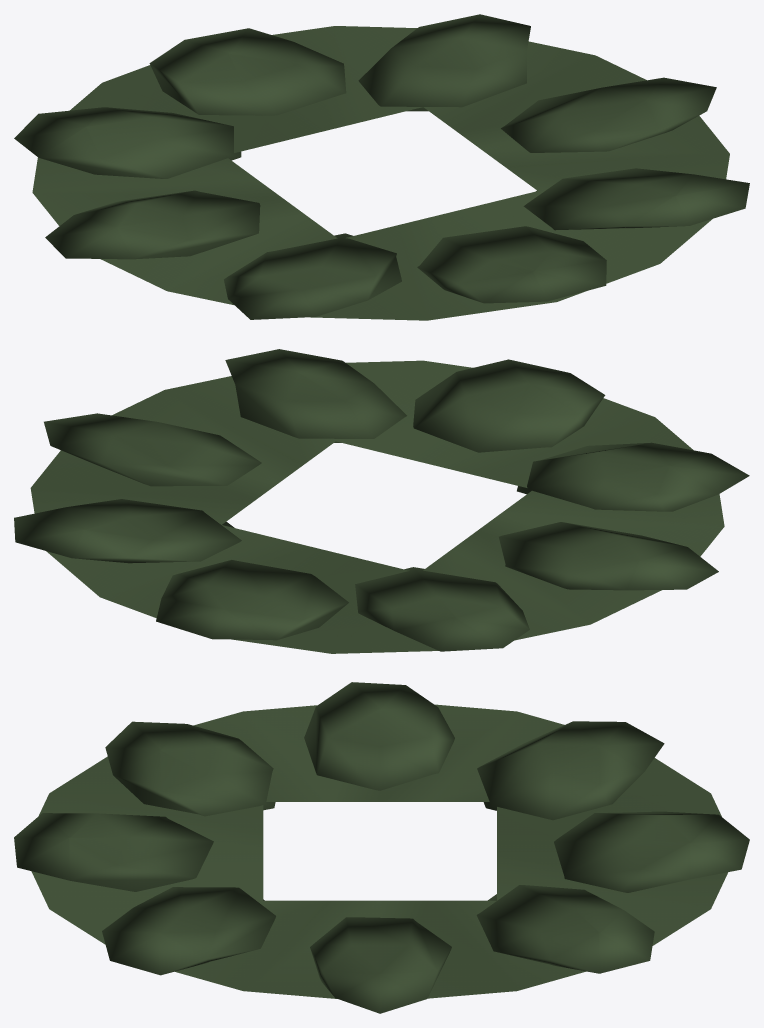
The model's file is horizon-ring.mobile.glb.
3 views of the same model, one above another, from view 1: azimuth 30°, elevation 25°; view 2: azimuth 150°, elevation 25°; view 3: azimuth 270°, elevation 25° (orthographic). The views are drawn at different scales.
Visible parts, largest first — view 1: SA_G09_MESH_00; view 2: SA_G09_MESH_00; view 3: SA_G09_MESH_00.
Boxes of the visible parts, <box> form: SA_G09_MESH_00: <box>14,14,749,320</box>; SA_G09_MESH_00: <box>14,349,749,653</box>; SA_G09_MESH_00: <box>14,682,749,1013</box>.
Size of the model in its own units: 589 by 11.77 by 555.
1 material, 1 textured.
